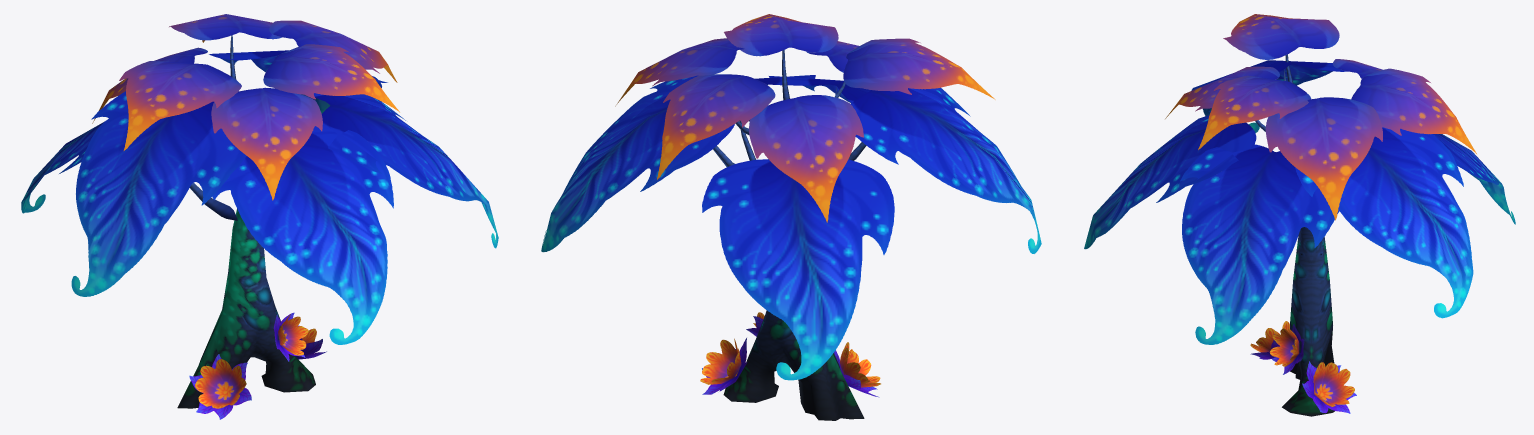
The model's file is Blue_Tree_02b.FBX.
3 views of the same model, side by side, from view 1: azimuth 30°, elevation 25°; view 2: azimuth 150°, elevation 25°; view 3: azimuth 270°, elevation 25° (orthographic). The views are drawn at different scales.
Parts seen in each view (by area): view 1: Blue_Tree_02b; view 2: Blue_Tree_02b; view 3: Blue_Tree_02b.
Boxes of the visible parts, x1,y1,x2,y2 form: Blue_Tree_02b: (21,14,498,419); Blue_Tree_02b: (541,14,1041,420); Blue_Tree_02b: (1084,14,1515,416).
Size of the model in its own units: 222 by 180 by 221.
